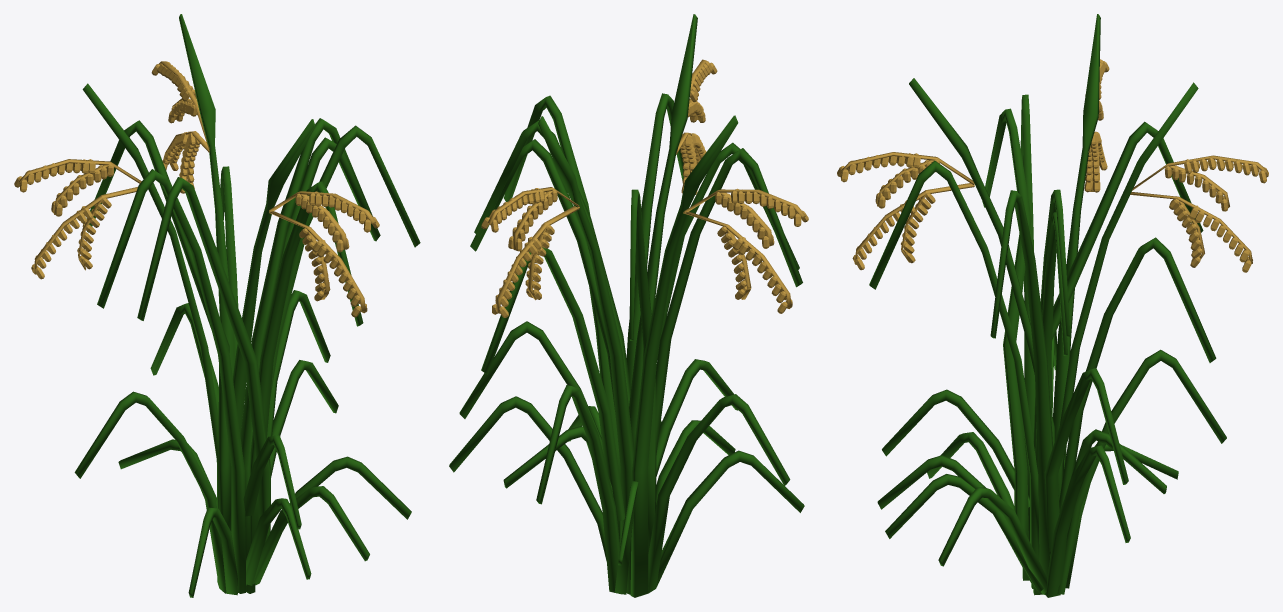
The model's file is Wheat.fbx.
3 views of the same model, side by side, from view 1: azimuth 30°, elevation 25°; view 2: azimuth 150°, elevation 25°; view 3: azimuth 270°, elevation 25° (orthographic). The views are drawn at different scales.
Visible parts, largest first — view 1: Rice_Plant, Rice_Plant.002, Rice_Grain_2, Rice_Grain_1.002; view 2: Rice_Plant, Rice_Plant.002, Rice_Grain_1.002, Rice_Grain_2; view 3: Rice_Plant, Rice_Grain_1.002, Rice_Grain_2, Rice_Plant.002.
Boxes of the visible parts, x1=… form: Rice_Plant: x1=74, y1=14, x2=420, y2=597; Rice_Plant.002: x1=14, y1=159, x2=141, y2=279; Rice_Grain_2: x1=269, y1=191, x2=379, y2=317; Rice_Grain_1.002: x1=151, y1=61, x2=209, y2=193; Rice_Plant: x1=449, y1=14, x2=804, y2=597; Rice_Plant.002: x1=683, y1=188, x2=808, y2=313; Rice_Grain_1.002: x1=481, y1=187, x2=579, y2=317; Rice_Grain_2: x1=676, y1=59, x2=717, y2=194; Rice_Plant: x1=869, y1=14, x2=1226, y2=597; Rice_Grain_1.002: x1=1130, y1=155, x2=1268, y2=272; Rice_Grain_2: x1=837, y1=152, x2=974, y2=270; Rice_Plant.002: x1=1084, y1=59, x2=1109, y2=192.
Size of the model in its own units: 2.36 by 3.35 by 2.54.
